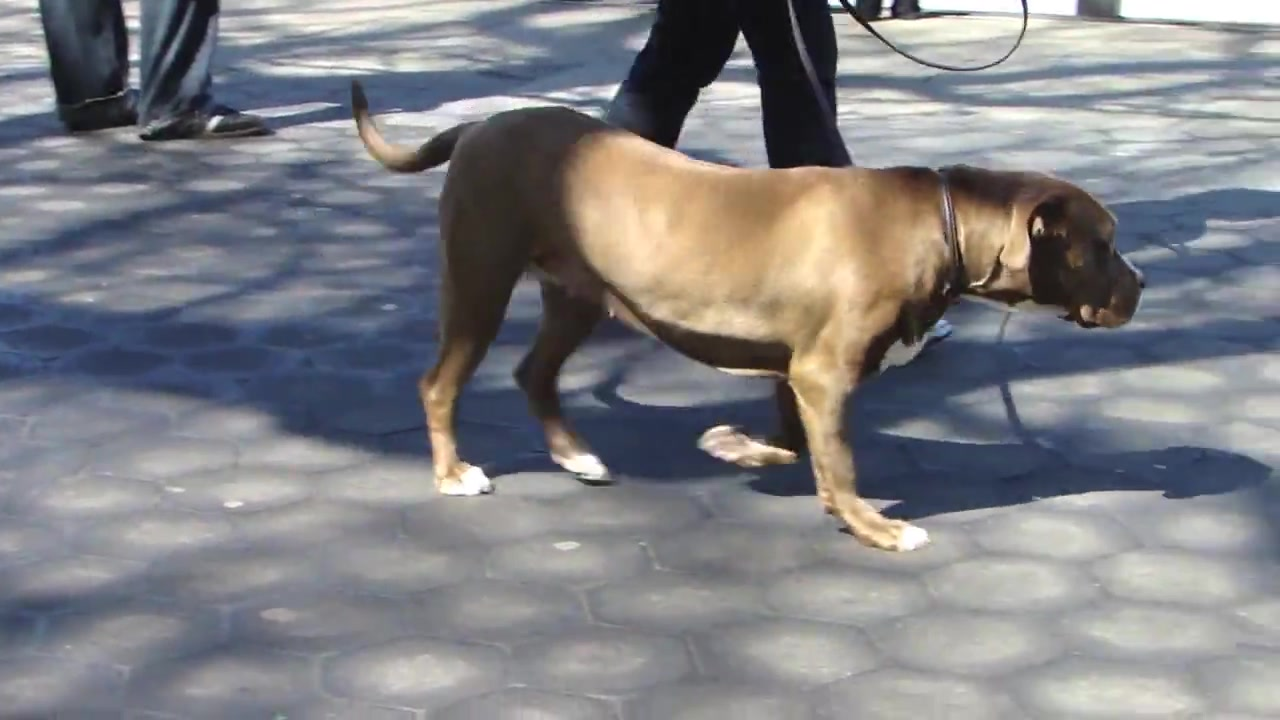dog: (339, 74, 1147, 552)
